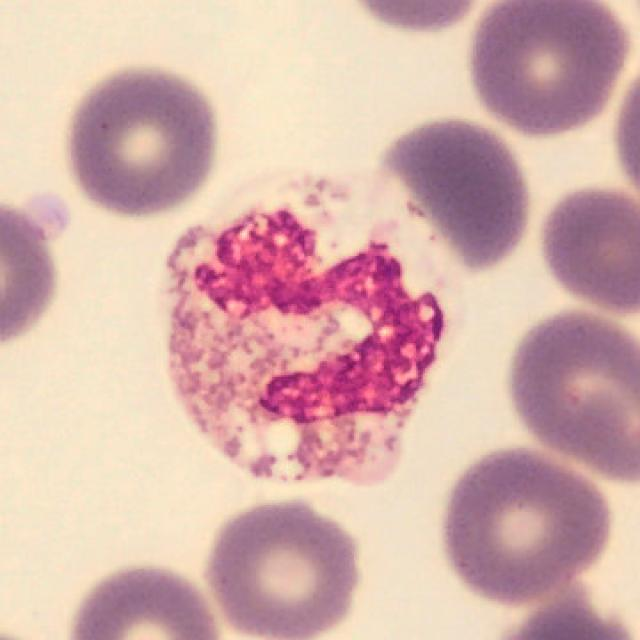Neutrofilo segmentado: (162, 165, 469, 489)
